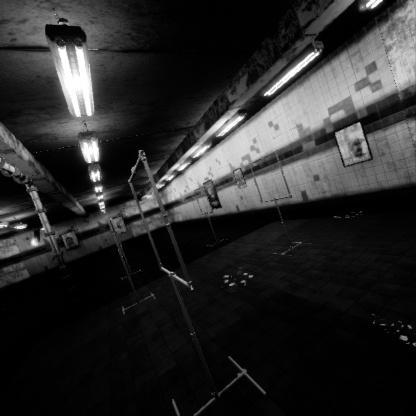gate: (132, 122, 201, 268), (249, 212, 295, 266), (106, 158, 124, 205), (194, 201, 214, 230), (111, 170, 122, 198)
